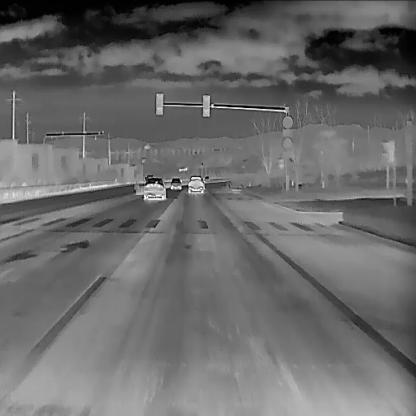car: (142, 177, 166, 199), (187, 175, 204, 193), (169, 177, 181, 189)
